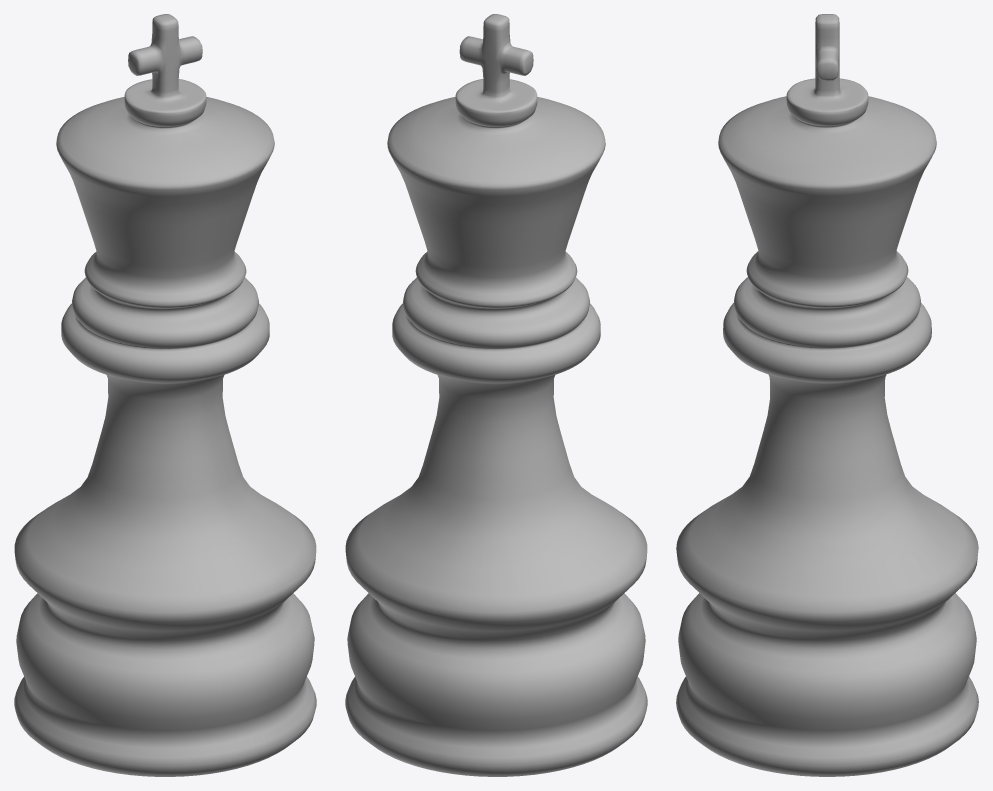
Rendered from whiteKing.fbx.
3 views of the same model, side by side, from view 1: azimuth 30°, elevation 25°; view 2: azimuth 150°, elevation 25°; view 3: azimuth 270°, elevation 25° (orthographic).
Visible parts, largest first — view 1: whiteKing; view 2: whiteKing; view 3: whiteKing.
Boxes of the visible parts, bbox=[...] form: whiteKing: bbox=[14, 14, 316, 776]; whiteKing: bbox=[345, 14, 647, 776]; whiteKing: bbox=[676, 14, 978, 776].
Bounding box in the file's own units: 70.4 × 182 × 70.4.
Materials: 1 (1 with a texture image).
